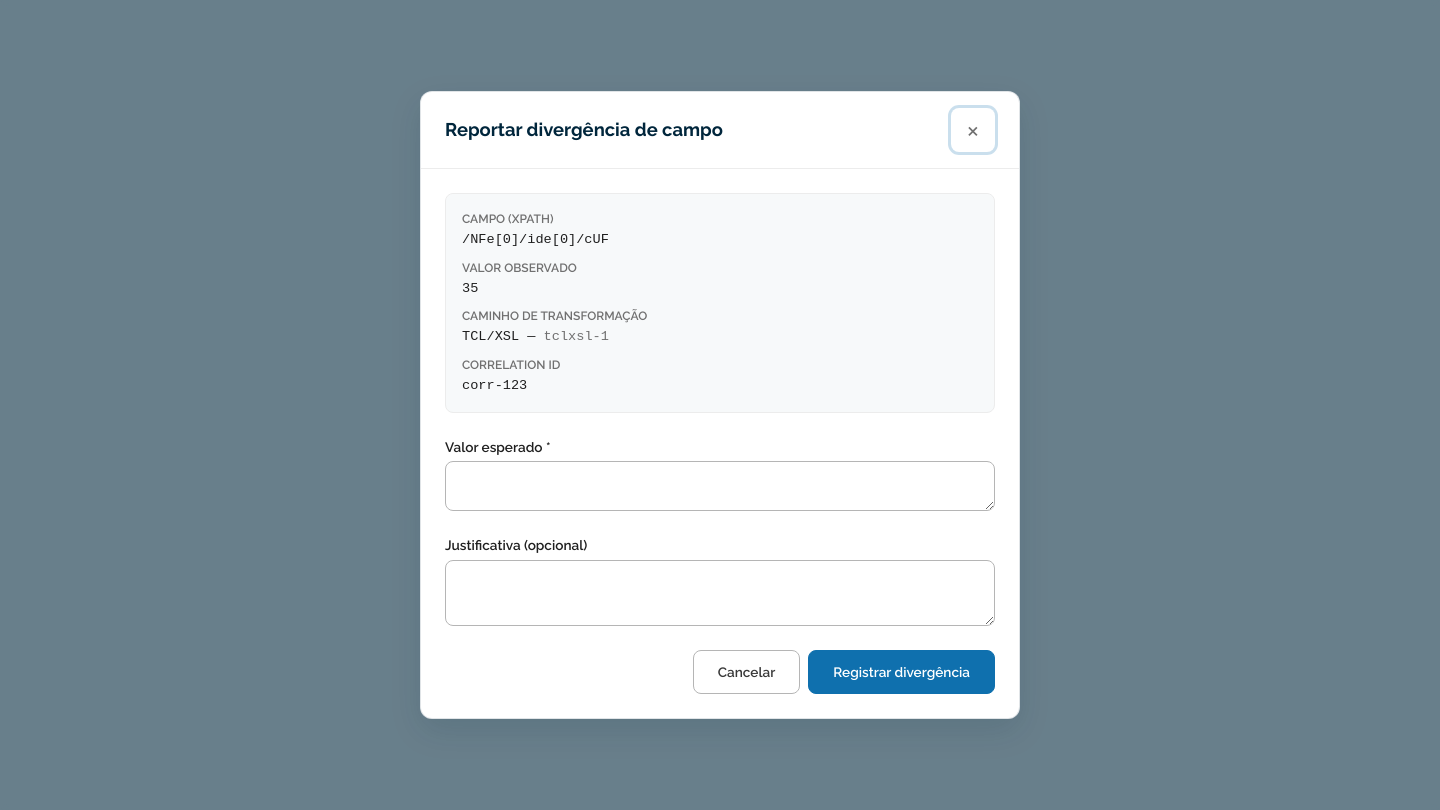
Test: FieldDivergenceModal › bloqueia o envio sem valor esperado, com erro acessível e foco no campo
What coordinates should you click on to do the following:
click the button "Registrar divergência"
I would click on:
 (902, 672)
Its box is [808,650,995,694].
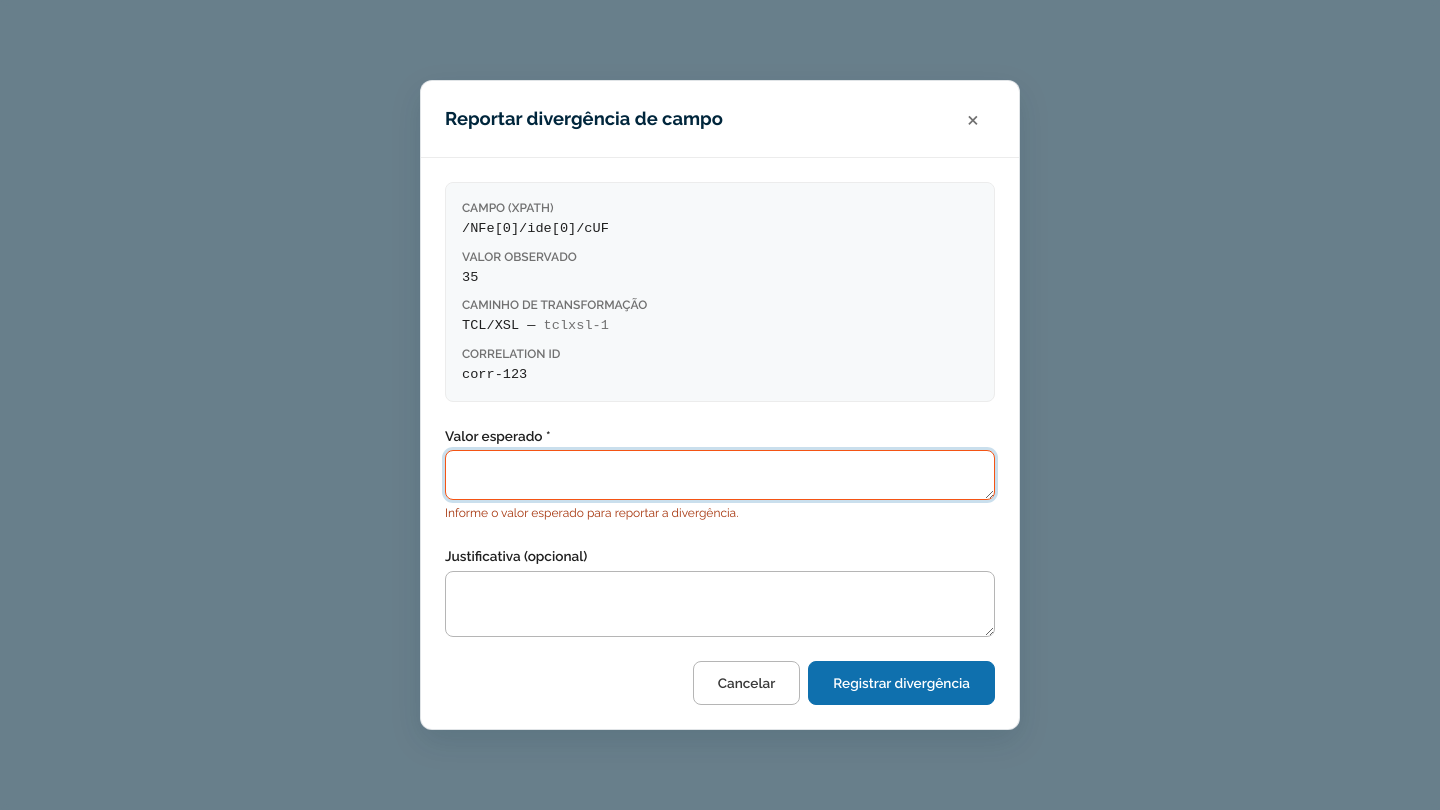
expect the message reads "Informe o valor esperado para reportar a divergência.": met, box [445,506,738,520]
